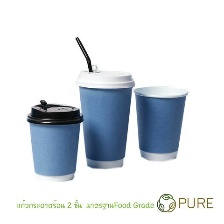paper_cup: (71, 61, 138, 171), (20, 95, 88, 185), (130, 80, 191, 164)
